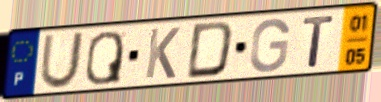D: (184, 19, 237, 81)
G: (248, 16, 292, 74)
K: (142, 25, 182, 81)
Q: (83, 29, 126, 87)
T: (301, 13, 337, 69)
U: (38, 30, 87, 90)
